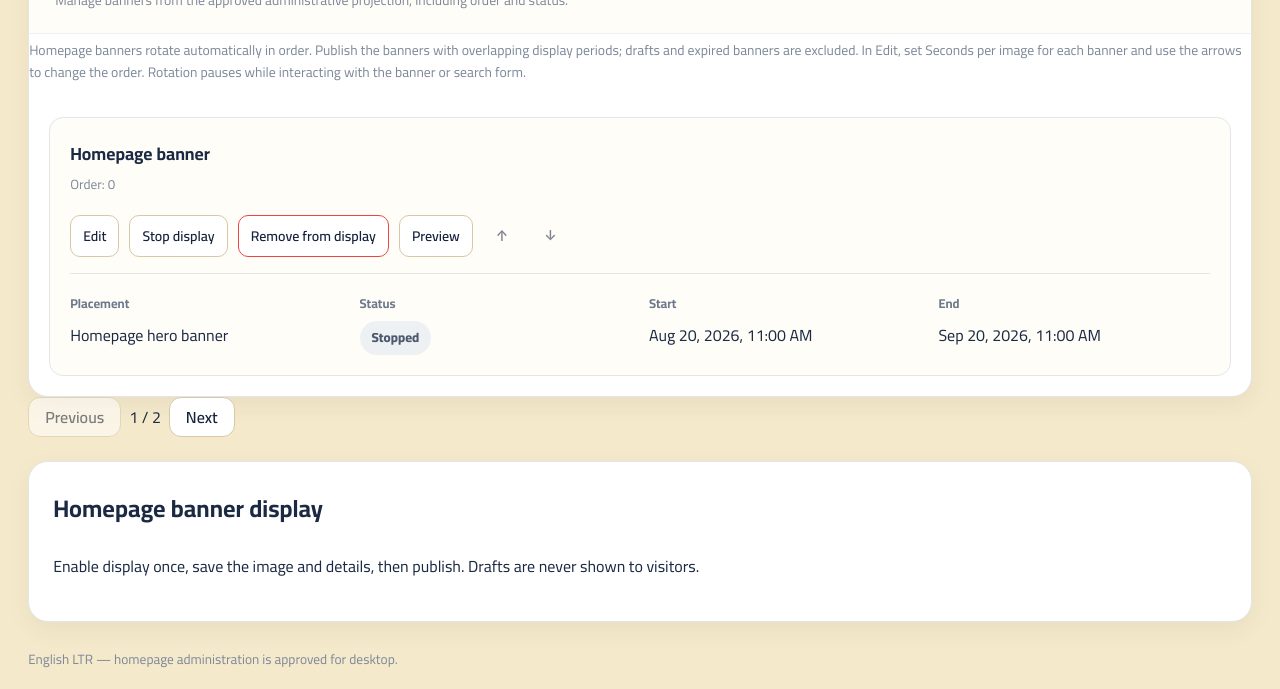
Test case: Admin banners, tips, and homepage administration › resets server pagination when switching to stopped banners
(page scrolled)
Click the button "Next" at {"x": 202, "y": 417}, box [169,397,235,437]
(page scrolled)
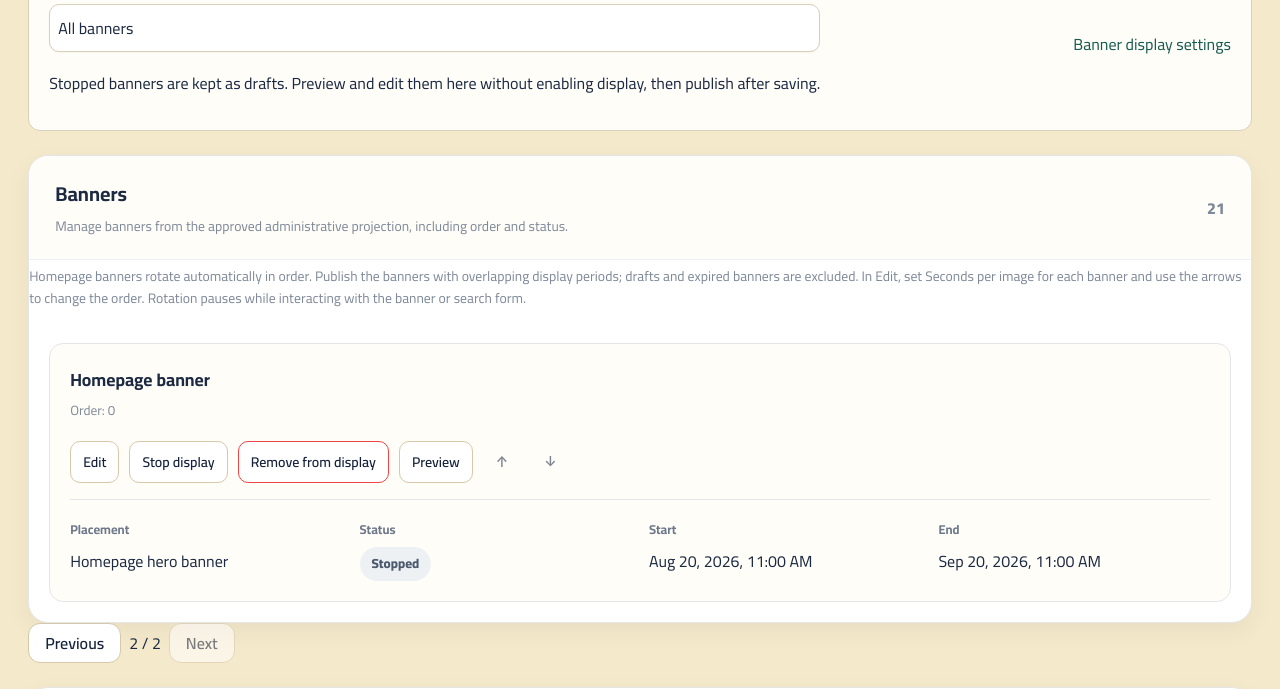
Click the button "Previous" at {"x": 75, "y": 643}, box [28,623,121,663]
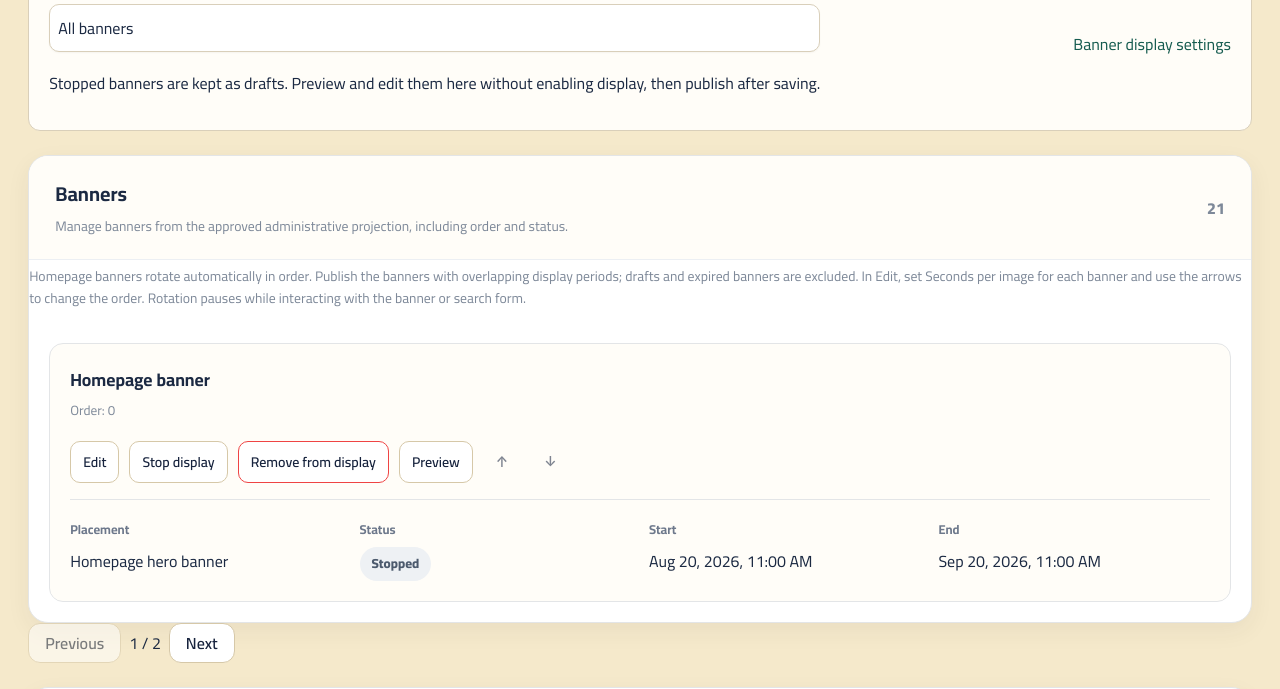
Select "Draft / stopped" in the dropdown labelled "Banner status" at {"x": 435, "y": 28}, box [49,4,820,52]
(page scrolled)
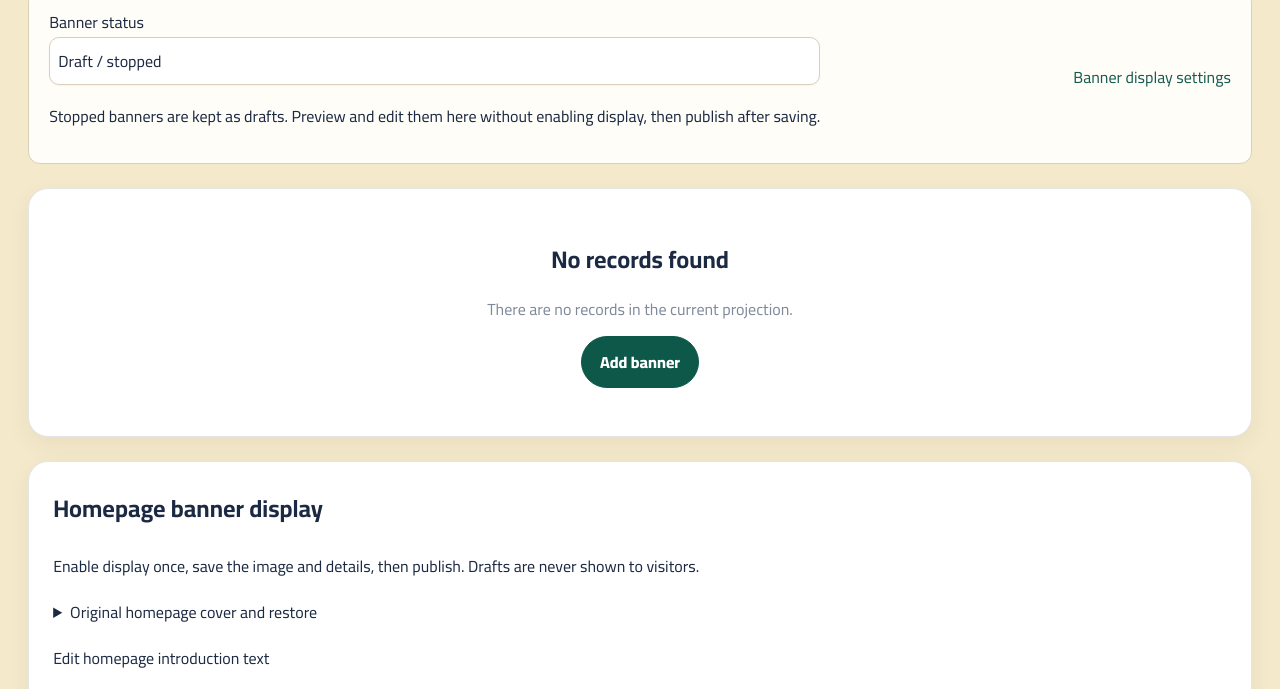
Expected: the button "Next" is gone
